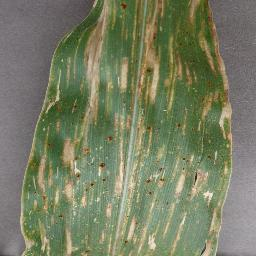Gray_Leaf_Spot: (188, 0, 233, 83), (142, 0, 164, 97), (129, 45, 144, 121), (85, 18, 102, 78), (165, 26, 180, 85), (36, 214, 55, 256), (89, 72, 101, 129), (113, 0, 130, 40), (219, 104, 236, 144), (131, 116, 150, 151), (48, 61, 62, 108), (119, 136, 133, 183), (61, 132, 78, 170), (15, 215, 30, 256), (114, 53, 129, 93), (201, 88, 232, 107), (35, 148, 49, 189), (130, 0, 142, 47), (209, 206, 228, 235), (145, 215, 158, 256), (189, 174, 208, 202), (106, 226, 125, 252), (147, 154, 164, 183), (78, 177, 94, 205), (81, 105, 94, 139), (52, 185, 65, 219), (204, 234, 226, 254), (194, 119, 211, 144), (132, 148, 145, 179), (98, 0, 106, 50), (32, 188, 48, 213), (183, 59, 195, 92), (114, 109, 128, 137), (224, 147, 235, 182), (176, 104, 188, 136), (149, 138, 167, 158), (141, 181, 156, 204), (192, 160, 208, 181), (62, 228, 74, 256), (163, 85, 174, 114), (96, 221, 105, 256), (178, 143, 192, 165), (64, 179, 75, 207), (98, 146, 109, 173), (104, 72, 110, 120), (130, 180, 139, 212), (66, 167, 84, 183), (102, 194, 113, 220), (110, 178, 123, 198), (50, 116, 65, 133), (200, 101, 209, 129), (171, 166, 189, 180), (177, 208, 188, 230), (73, 33, 78, 81), (80, 134, 92, 154), (128, 219, 136, 249), (204, 145, 216, 164), (219, 186, 231, 205), (175, 175, 184, 200), (45, 123, 54, 147), (169, 196, 178, 220), (118, 204, 129, 223), (42, 90, 49, 118), (66, 54, 72, 86), (82, 230, 88, 256), (203, 192, 214, 206), (101, 170, 108, 192), (77, 74, 83, 98), (173, 236, 180, 256), (69, 207, 80, 219), (29, 133, 33, 165), (105, 131, 115, 143), (82, 154, 91, 167), (145, 204, 161, 211), (164, 223, 173, 235), (165, 1, 174, 9), (92, 218, 97, 226), (160, 116, 164, 125), (55, 173, 60, 180), (75, 101, 77, 118)
